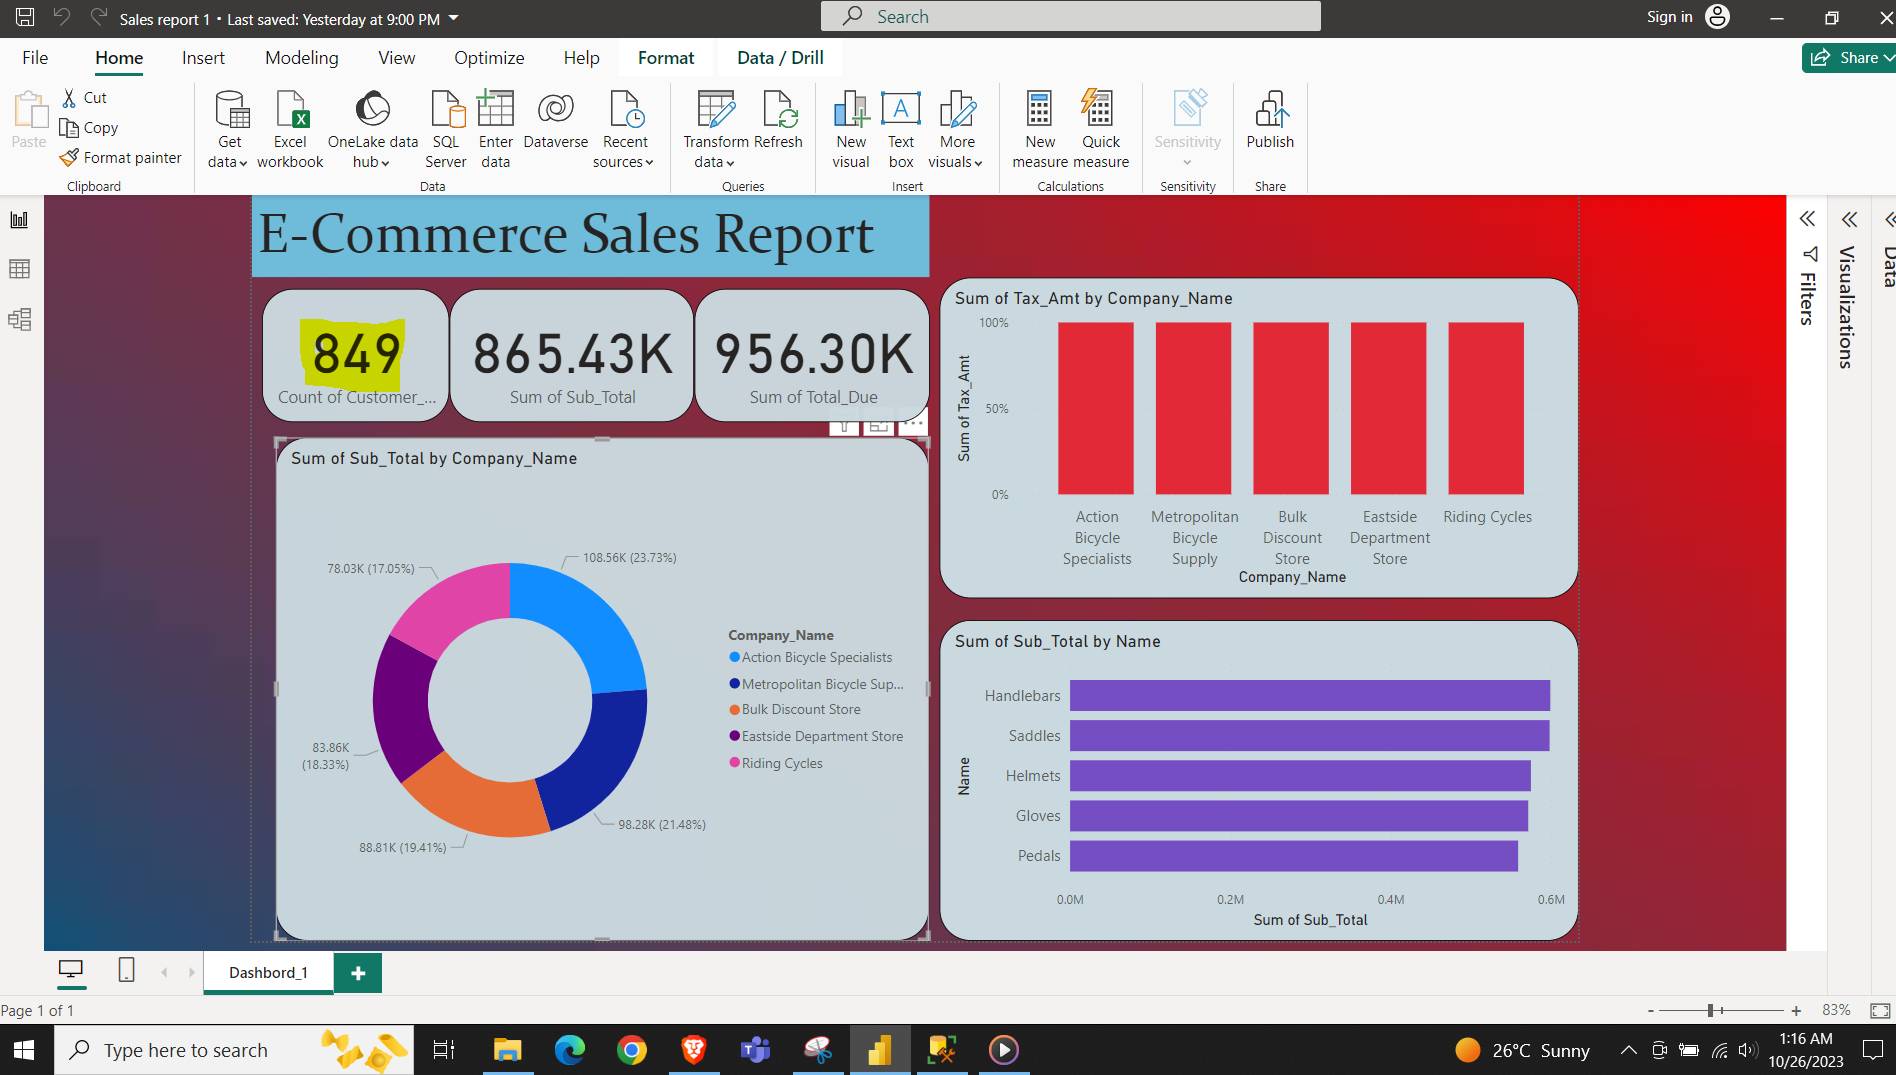

This screenshot's page, from the dashboard's own definition file:
{"tool":"powerbi","page":{"name":"Dashbord_1","canvas":[1280,720],"ordinal":0},"visuals":[{"type":"textbox","box":[0,0,654,79.5],"z":0},{"type":"card","fields":{"Values":["CountNonNull(Customer.Customer_ID)"]},"box":[9.6,90.5,181,128.9],"z":1000},{"type":"clusteredBarChart","fields":{"Category":["ProductCategory.Name"],"Y":["Sum(SalesOrderHeader.Sub_Total)"]},"box":[663.6,409.9,617,309.9],"z":2000},{"type":"donutChart","fields":{"Category":["Customer.Company_Name"],"Y":["Sum(SalesOrderHeader.Sub_Total)"]},"box":[23.3,234.4,630.7,485.4],"z":3000},{"type":"card","fields":{"Values":["Sum(SalesOrderHeader.Sub_Total)"]},"box":[190.6,90.5,235.8,128.9],"z":4000},{"type":"card","fields":{"Values":["Sum(SalesOrderHeader.Total_Due)"]},"box":[426.4,90.5,227.6,128.9],"z":5000},{"type":"hundredPercentStackedColumnChart","fields":{"Category":["Customer.Company_Name"],"Y":["Sum(SalesOrderHeader.Tax_Amt)"]},"box":[663.6,79.5,617,309.9],"z":6000}]}

Visuals, with their boxes on the page's 1280x720 design canvas (x1, y1, x2, y2). These are canvas units, not pixel positions in the 1896x1075 screenshot, which may show the page scaled, cropped or inside an application window:
textbox: 0/0/654/80
card - CountNonNull(Customer.Customer_ID): 10/90/191/219
clusteredBarChart - ProductCategory.Name x Sum(SalesOrderHeader.Sub_Total): 664/410/1281/720
donutChart - Customer.Company_Name x Sum(SalesOrderHeader.Sub_Total): 23/234/654/720
card - Sum(SalesOrderHeader.Sub_Total): 191/90/426/219
card - Sum(SalesOrderHeader.Total_Due): 426/90/654/219
hundredPercentStackedColumnChart - Customer.Company_Name x Sum(SalesOrderHeader.Tax_Amt): 664/80/1281/389
